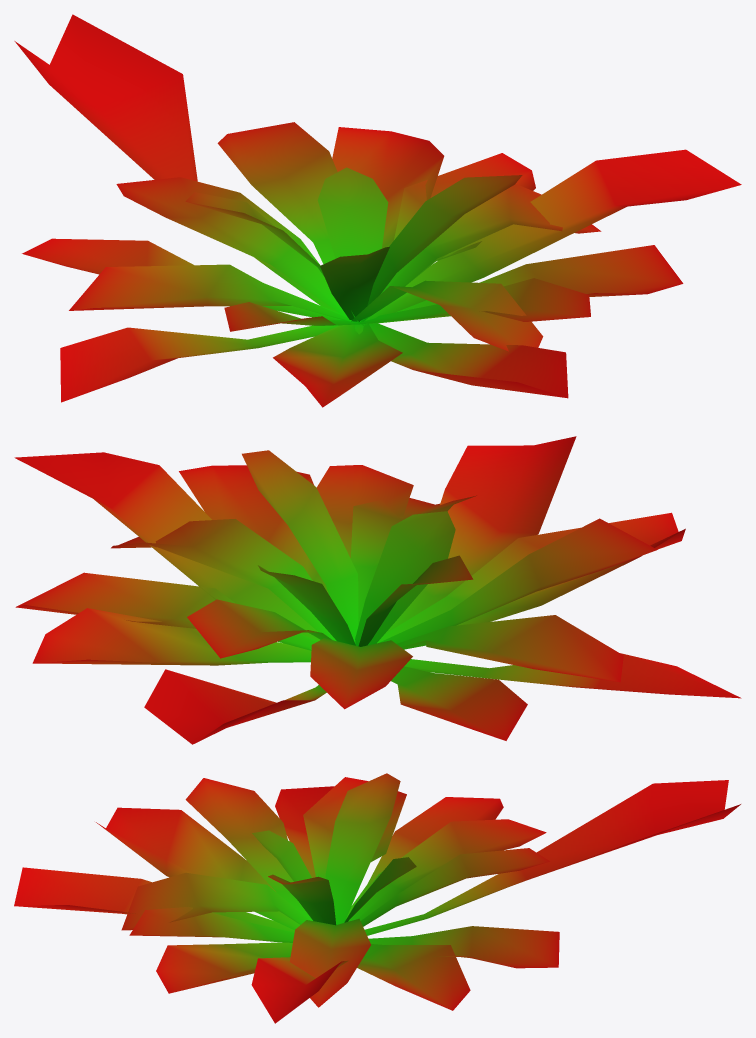
Rendered from Var28_LOD1.fbx.
3 views of the same model, one above another, from view 1: azimuth 30°, elevation 25°; view 2: azimuth 150°, elevation 25°; view 3: azimuth 270°, elevation 25° (orthographic). The views are drawn at different scales.
Parts seen in each view (by area): view 1: _hmgn_Var28_LOD1; view 2: _hmgn_Var28_LOD1; view 3: _hmgn_Var28_LOD1.
Boxes of the visible parts, <box> form: _hmgn_Var28_LOD1: <box>14,14,741,407</box>; _hmgn_Var28_LOD1: <box>14,436,741,744</box>; _hmgn_Var28_LOD1: <box>14,773,740,1023</box>.
Size of the model in its own units: 21.35 by 4.37 by 23.36.
